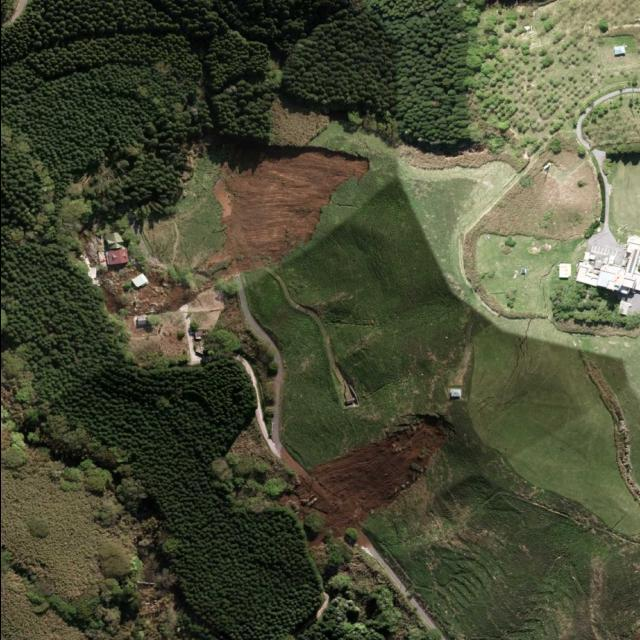landslide: (280, 416, 449, 533), (208, 147, 367, 269)
